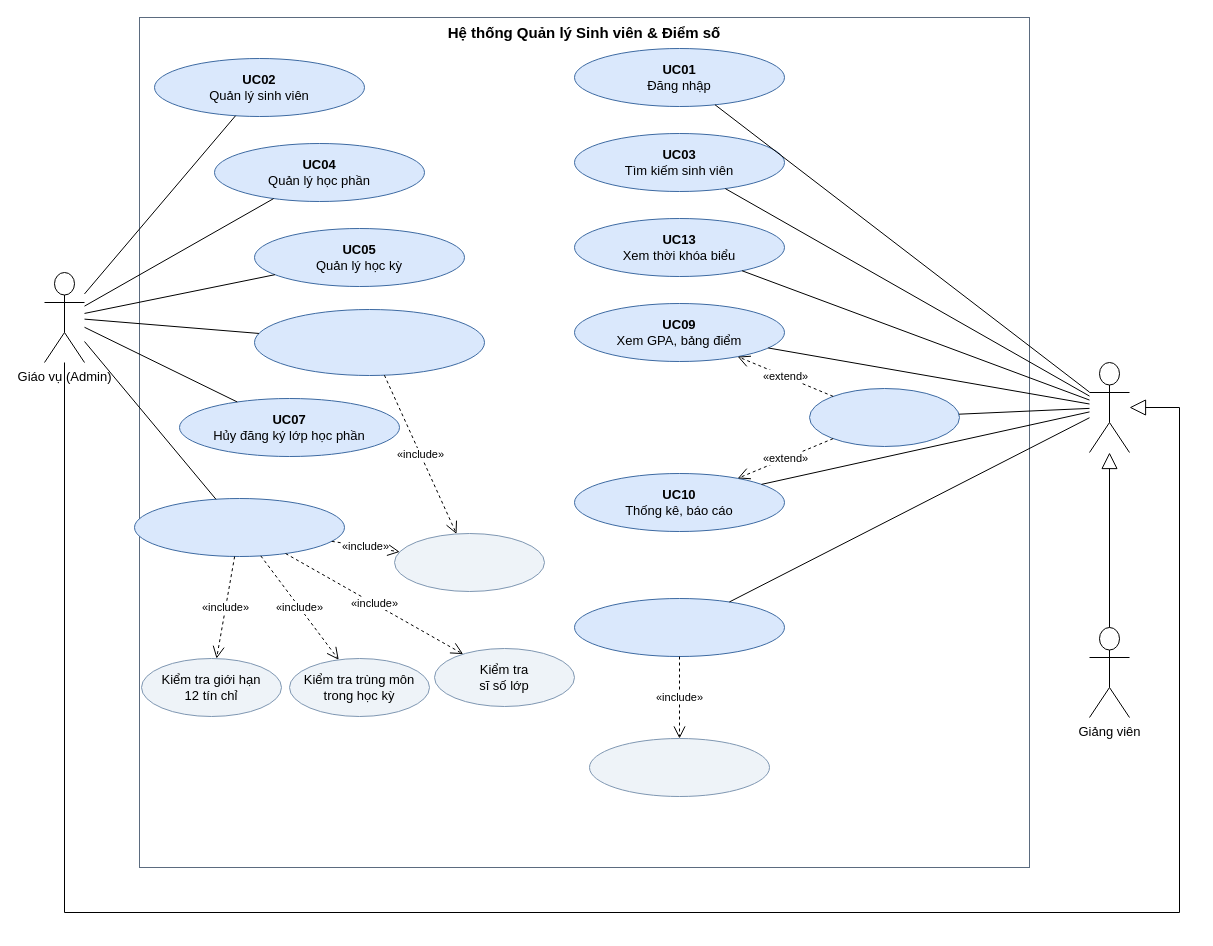
This 1213x946 diagram has some shape labels left out. Each missing label, with the centre of its shape:
Kiểm tra trùng lịch học: point 469,562
Người dùng: point 1109,407
Tính điểm tổng kết và quy đổi: point 679,767
UC06 Đăng ký lớp học phần: point 239,527
UC08 Nhập điểm theo lớp học phần: point 679,627
UC11 Xuất / nhập file: point 884,417
UC12 Quản lý lớp học phần và thời khóa biểu: point 369,342
